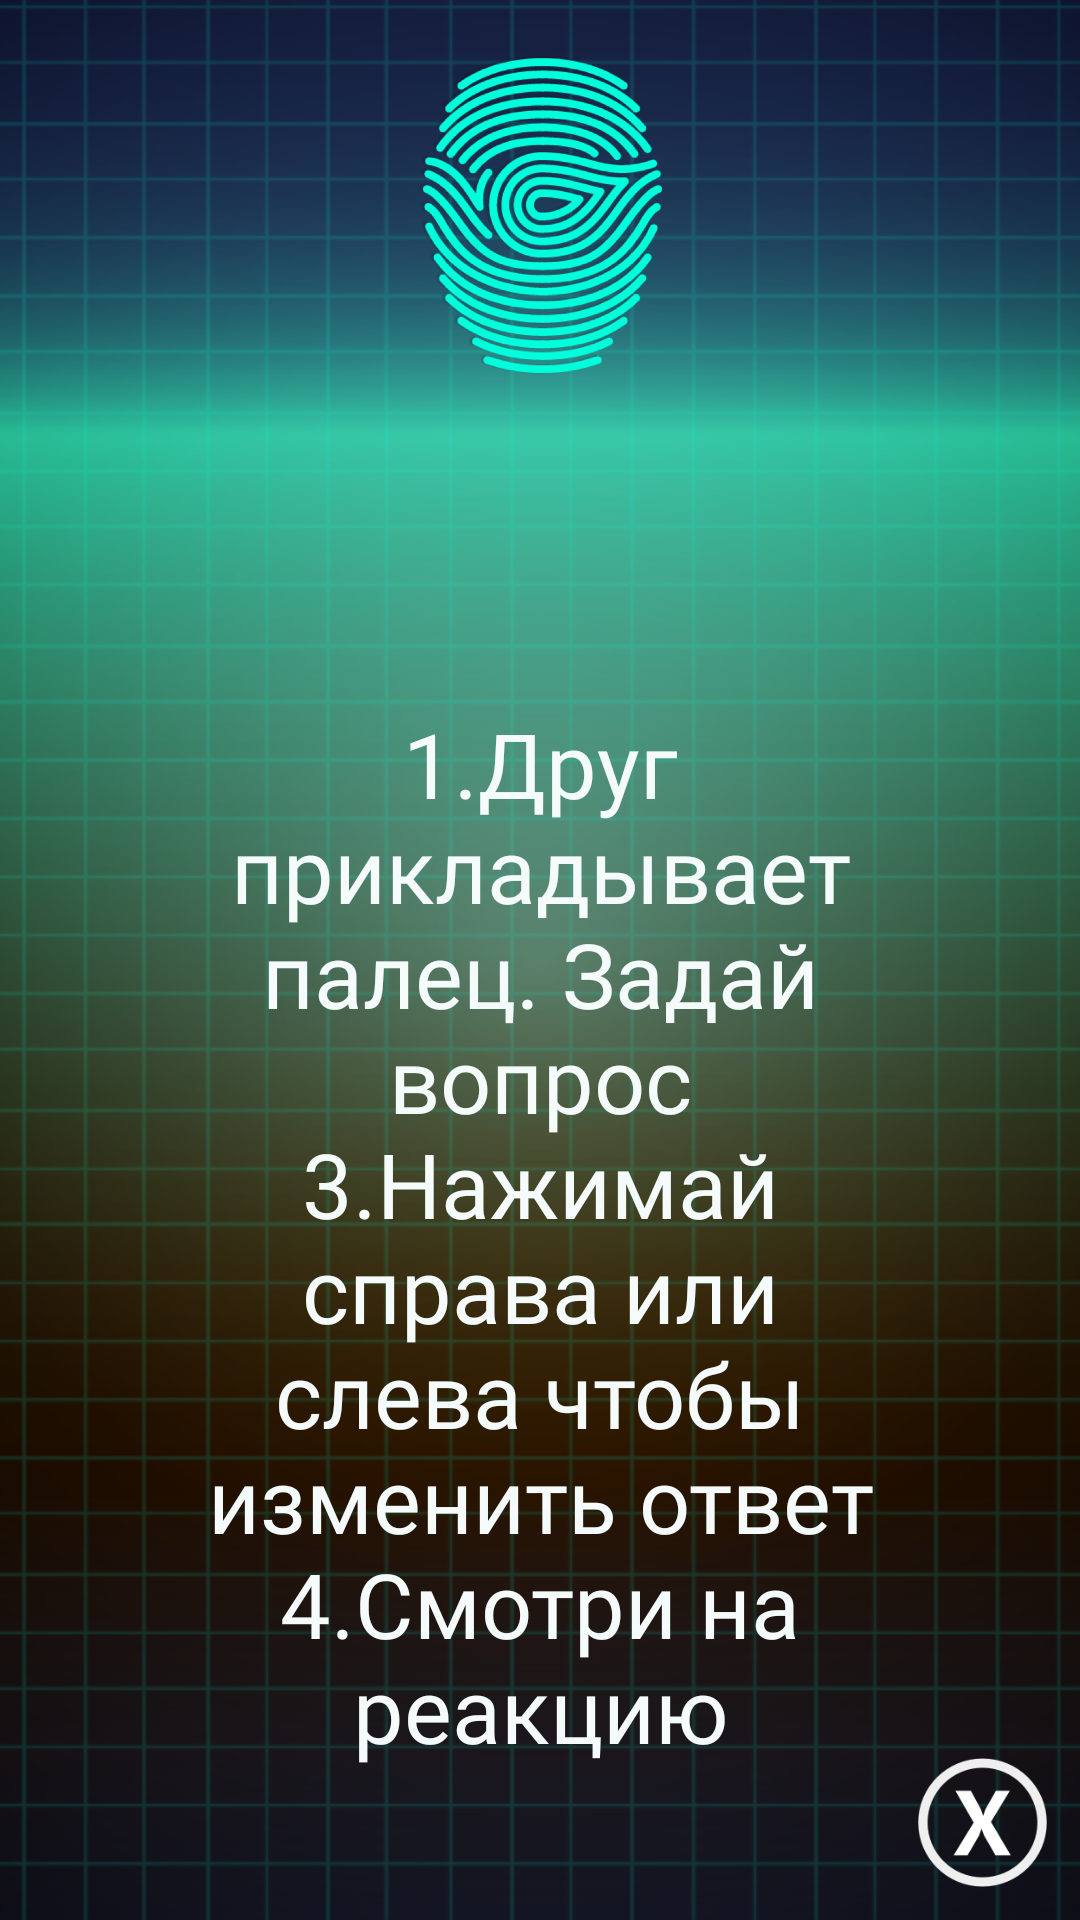

Where icons sit on this 1080*1920 app screen, as (x1, y1, x2, y2):
close: (918, 1758, 1047, 1887)
